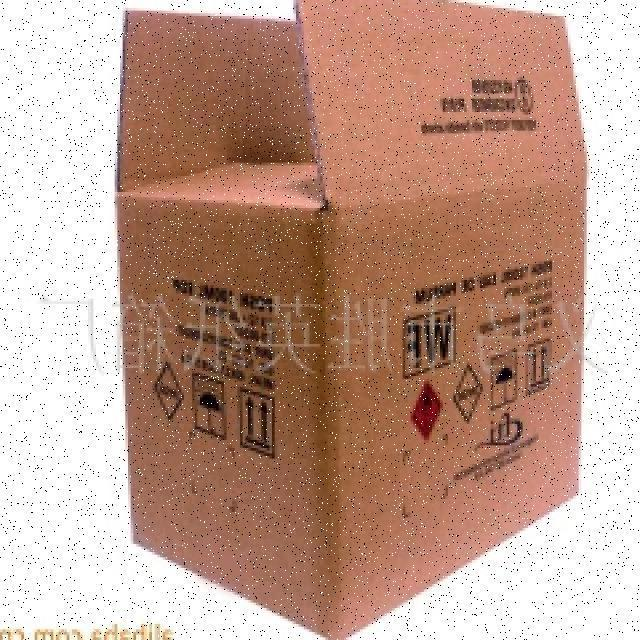box: (99, 0, 616, 640)
